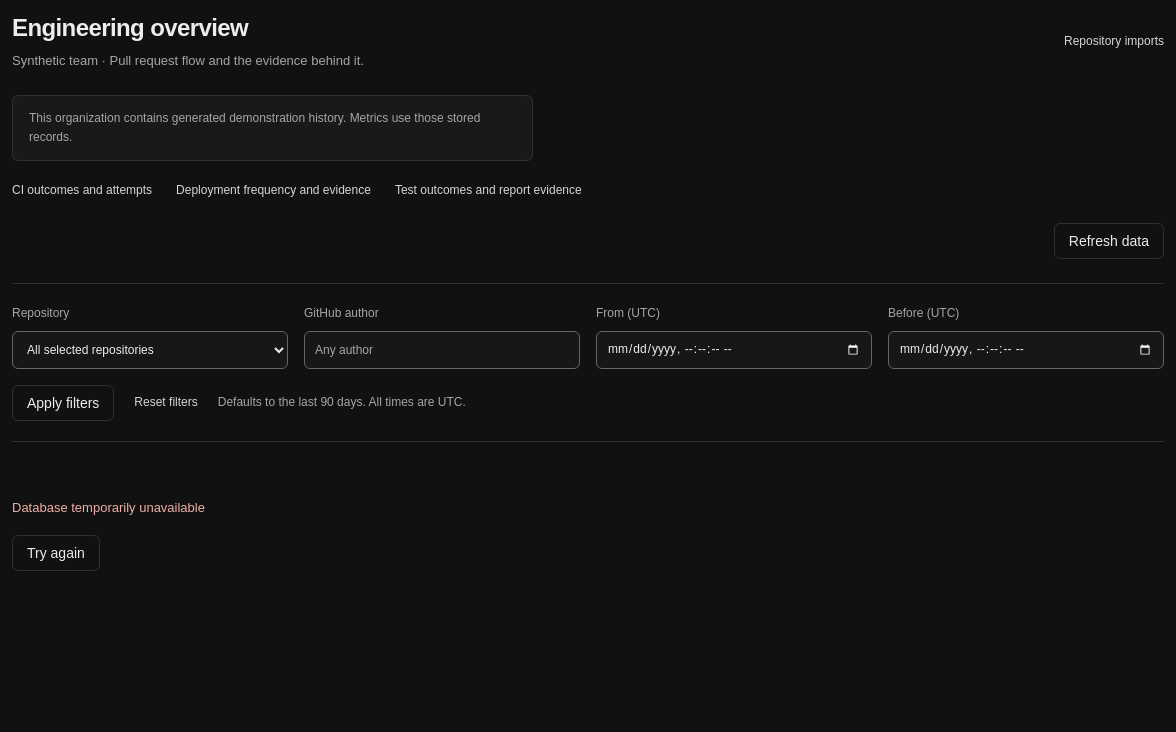
Scenario: analytics presentation contracts › retries a failed metric request
Expected: the message reads "Database temporarily unavailable", [12, 500, 205, 515]
Click the button "Try again".
click(56, 552)  # box [12, 534, 100, 570]
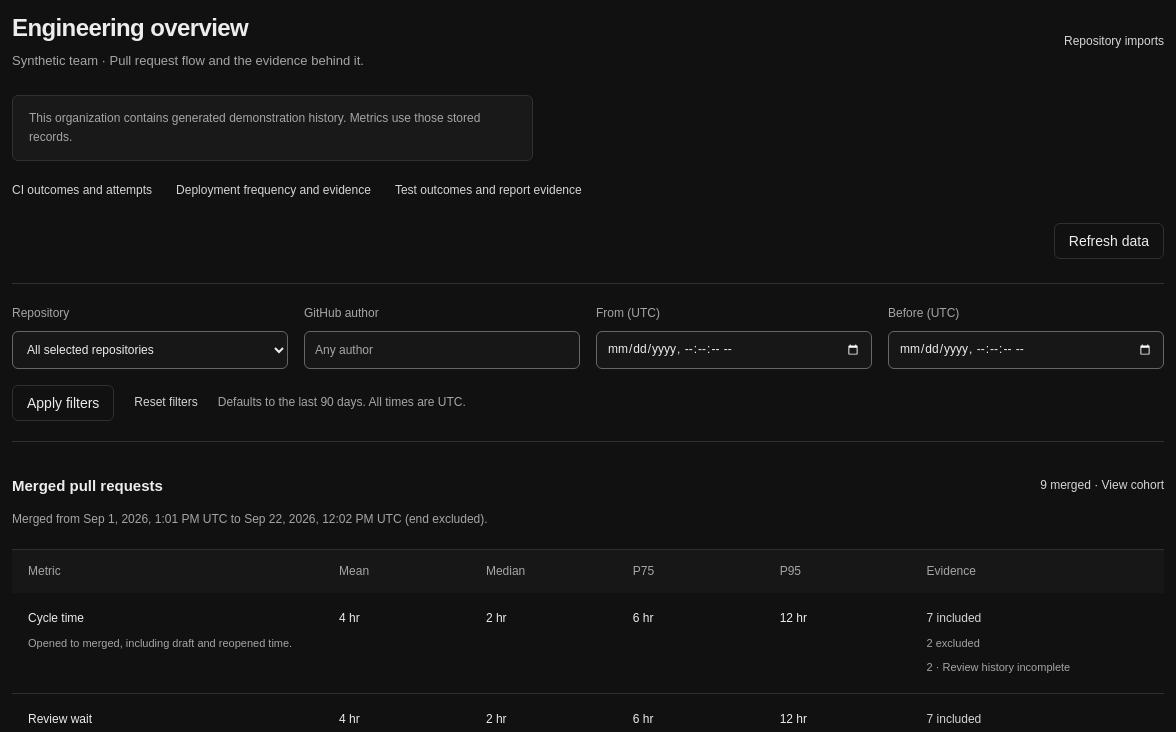
Expected: the heading "Merged pull requests" is shown, [12, 474, 163, 497]
